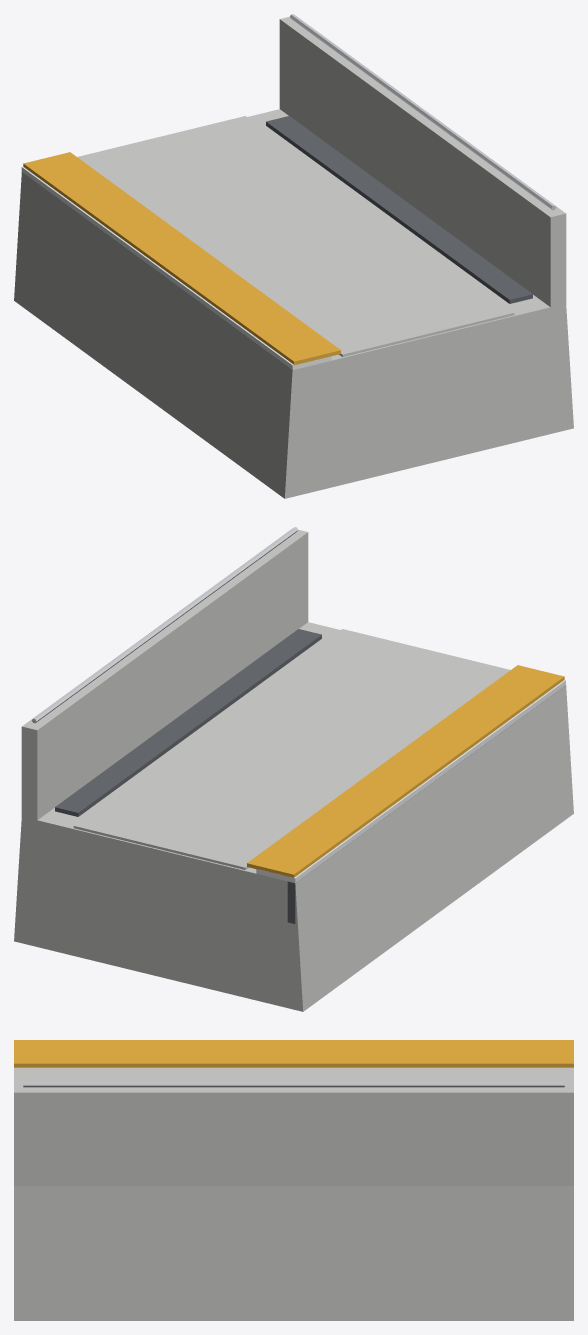
File: metro-platform-side.glb
3 views of the same model, one above another, from view 1: azimuth 30°, elevation 25°; view 2: azimuth 150°, elevation 25°; view 3: azimuth 270°, elevation 25° (orthographic). The views are drawn at different scales.
Visible parts, largest first — view 1: side-platform-module; view 2: side-platform-module; view 3: side-platform-module.
Boxes of the visible parts, <box> form: side-platform-module: <box>14,14,573,498</box>; side-platform-module: <box>14,527,573,1011</box>; side-platform-module: <box>14,1040,573,1320</box>.
Bounding box in the file's own units: 3.7 × 2.73 × 6.
